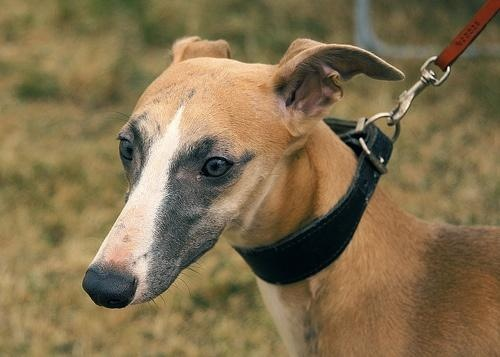dog: (82, 37, 500, 357)
